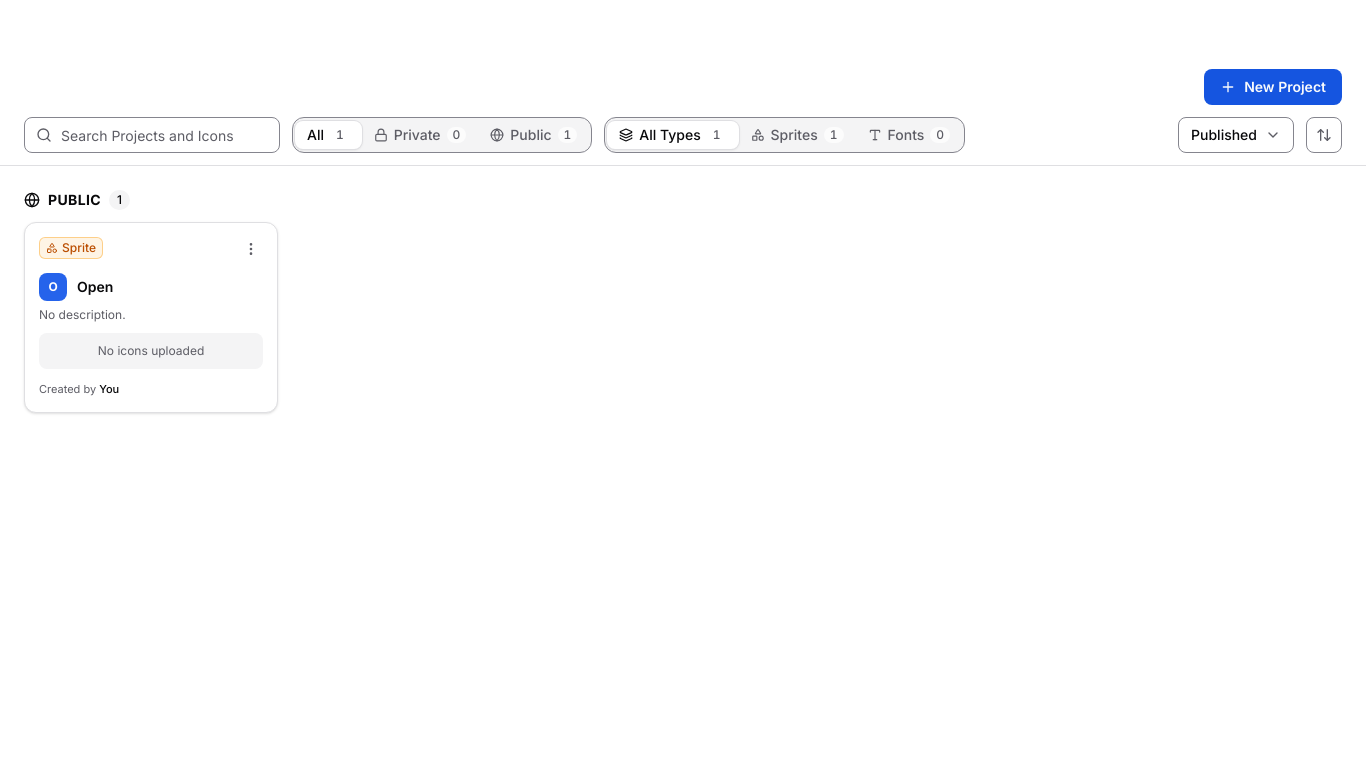
Test: making a project public or private › shows a toast after making a project private
Step 1. Click the button named "Actions for Open" → (251, 249), box [239,237,263,261]
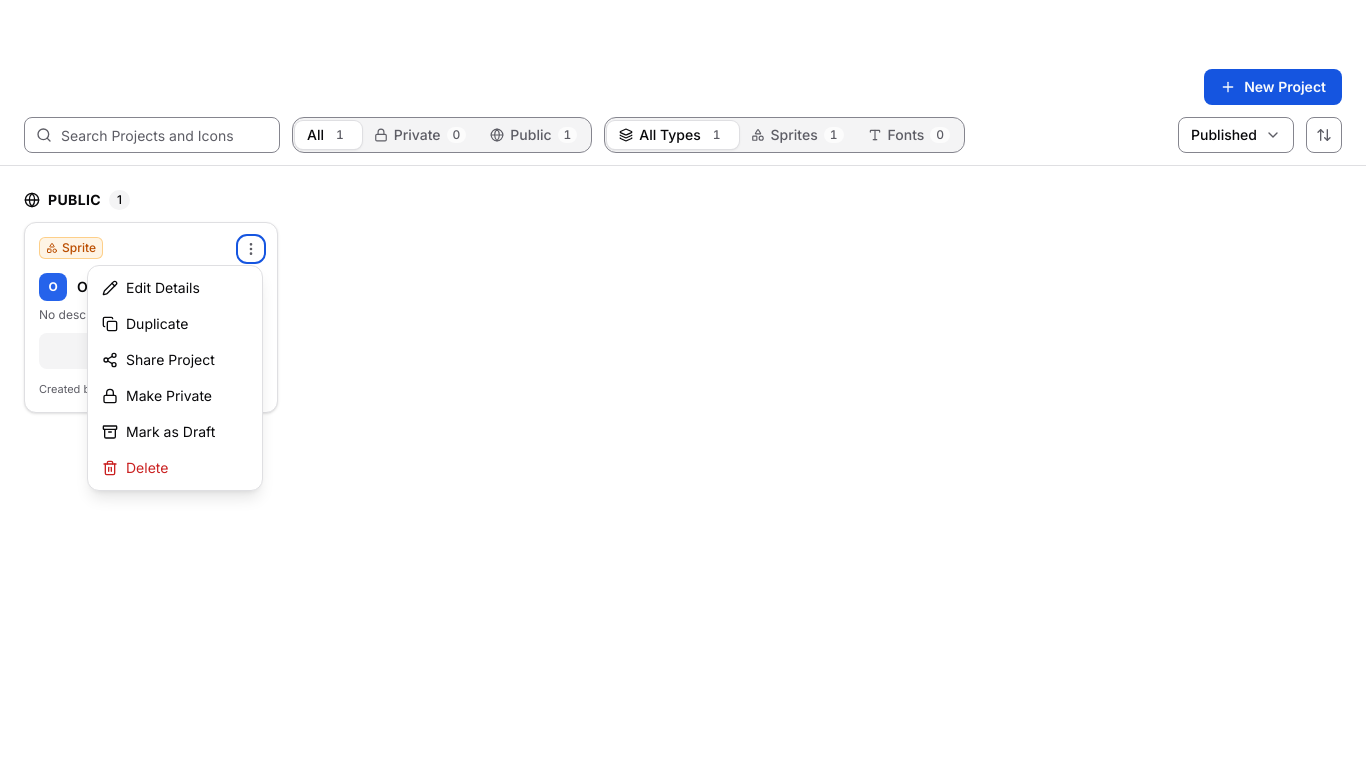
Step 2. Click the menu item "Make Private" → (175, 396), box [92,378,258,414]
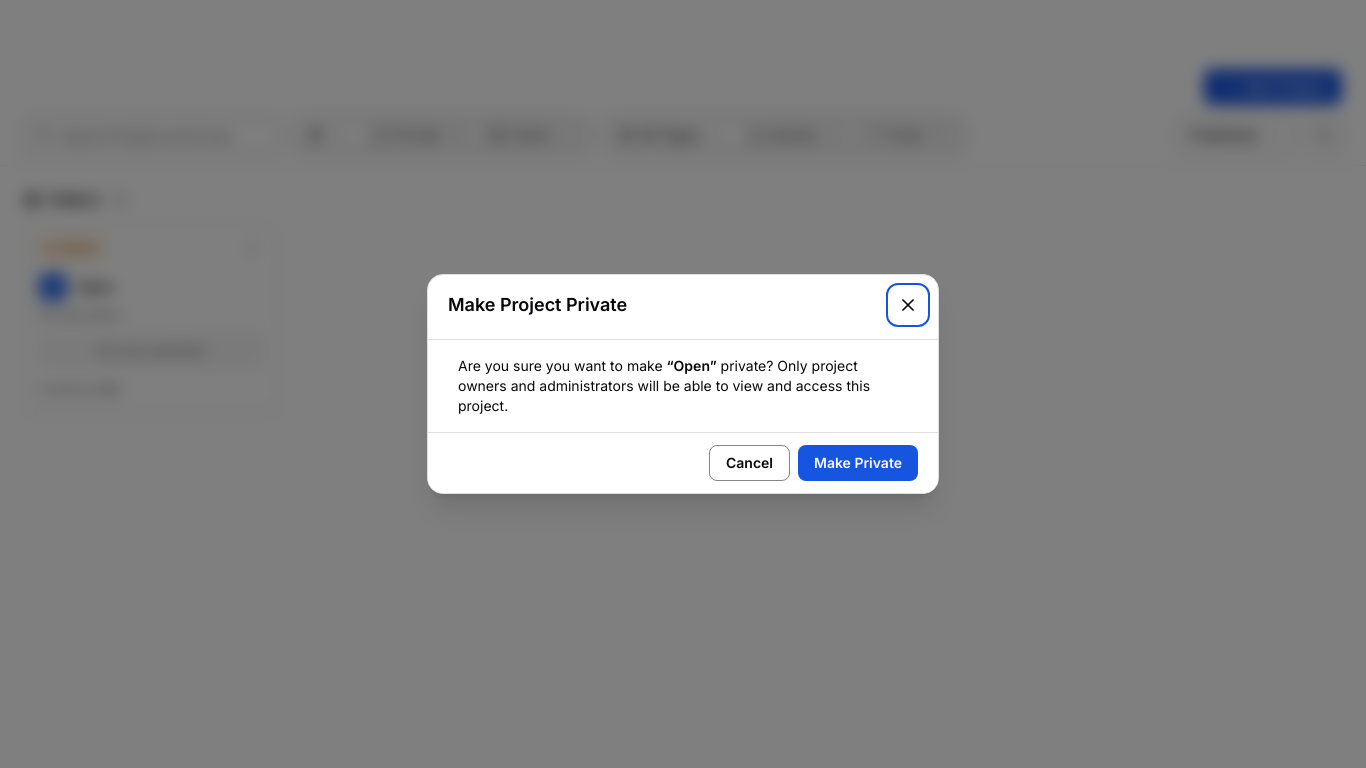
Step 3. Click the button "Make Private" → (858, 463), box [798,445,918,481]
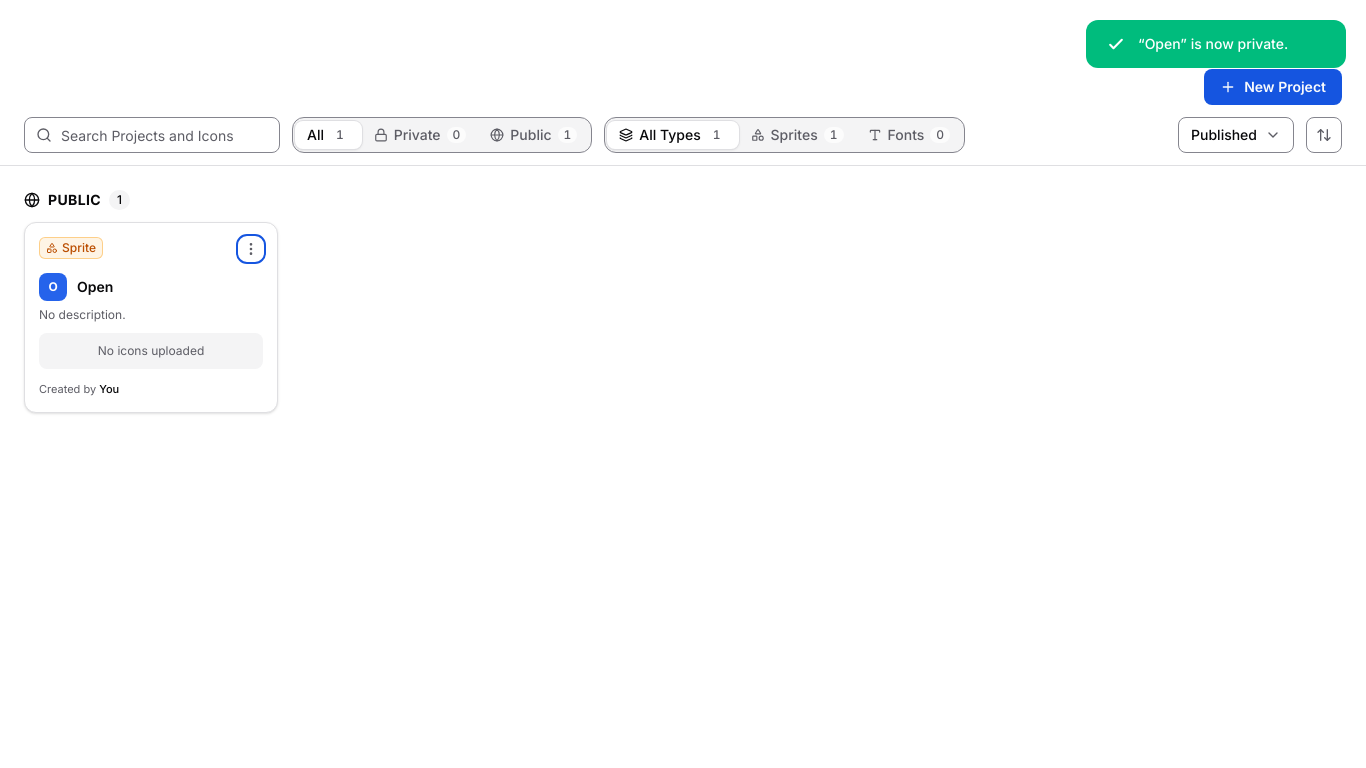
expect the dialog is gone: met
